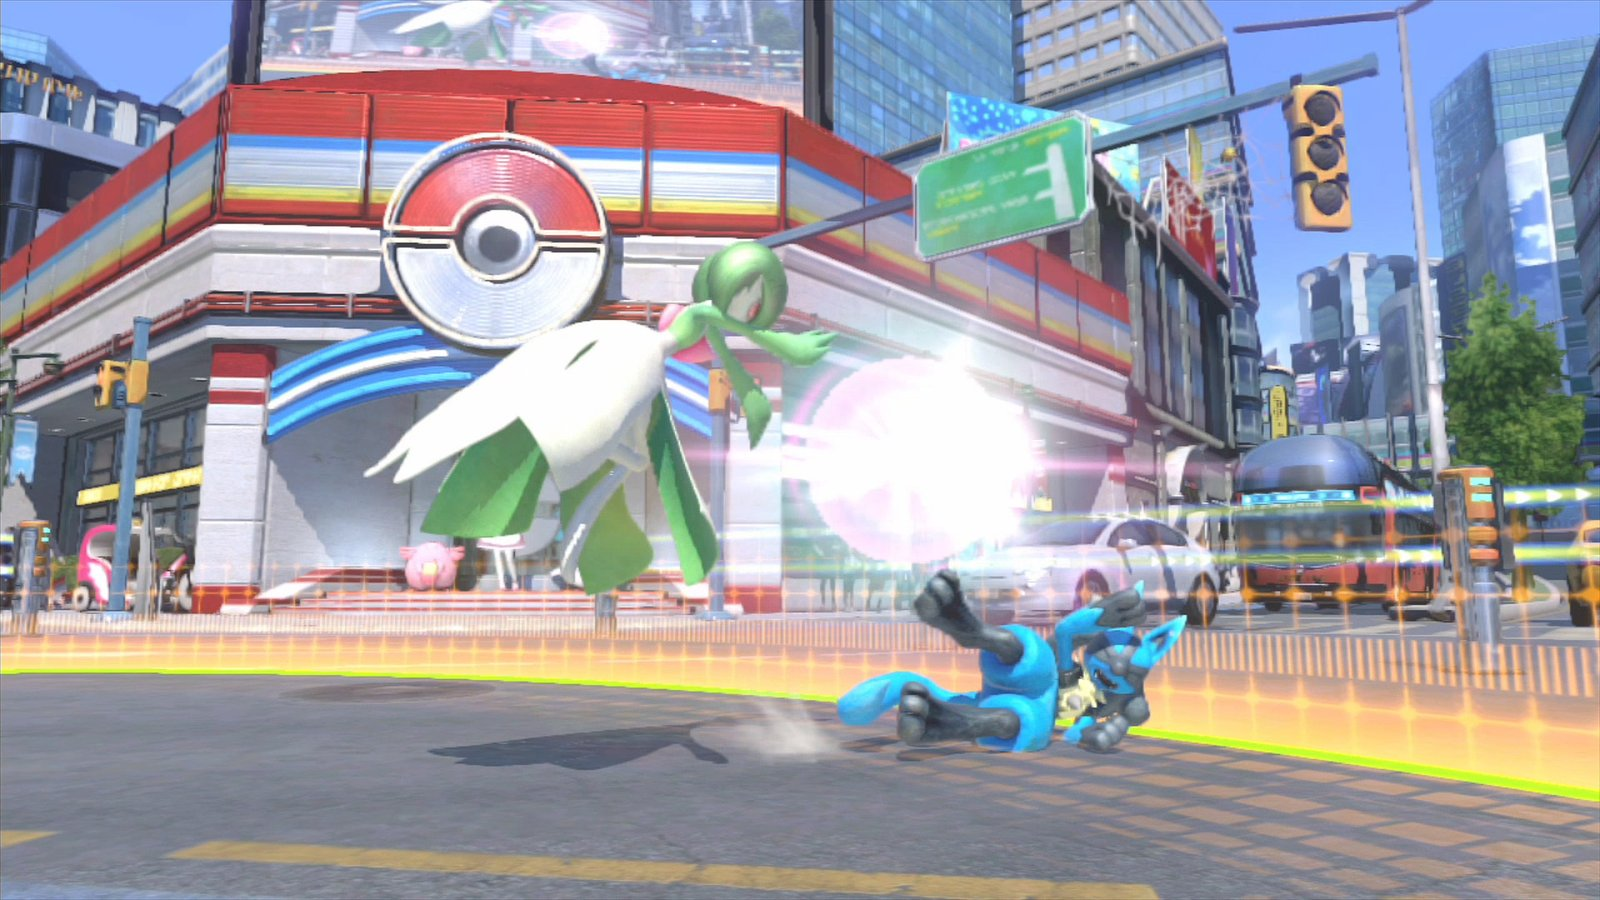gardevoir: (355, 234, 844, 597)
